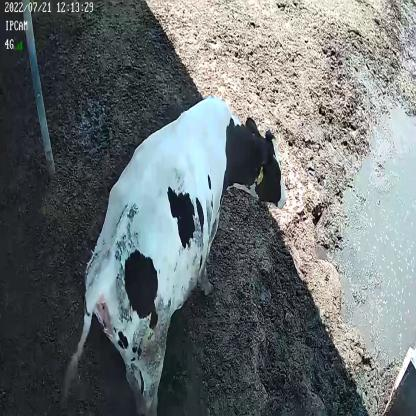cow: (59, 92, 289, 416)
